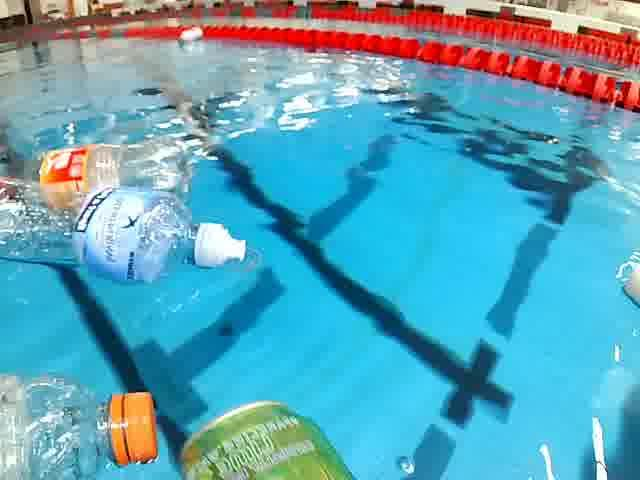Bottle: (0, 174, 266, 288), (0, 369, 171, 480), (0, 136, 202, 205)
Can: (167, 394, 378, 480)
